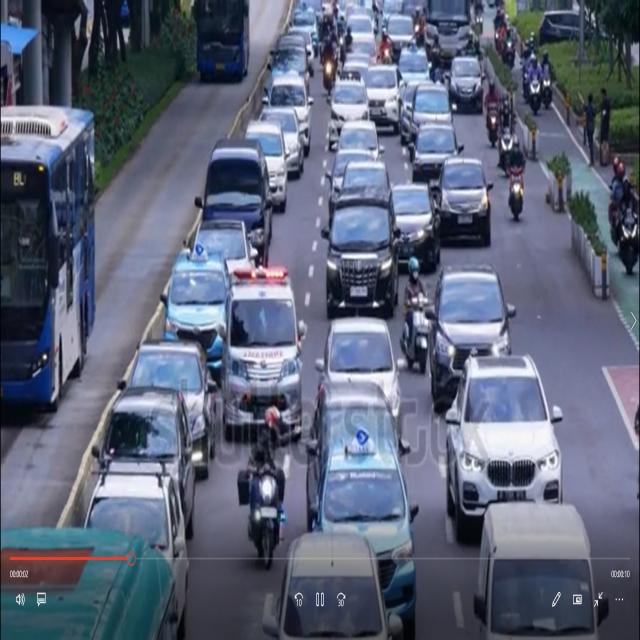Ambulance: (224, 250, 303, 450)
